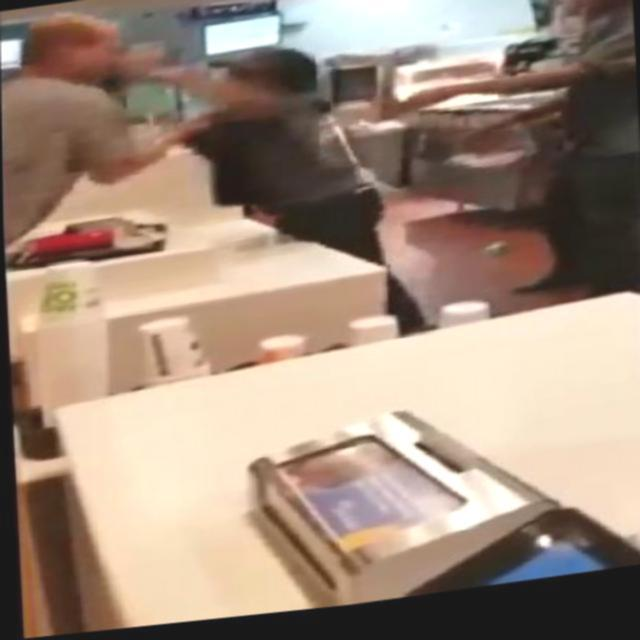fight: (0, 0, 391, 337)
